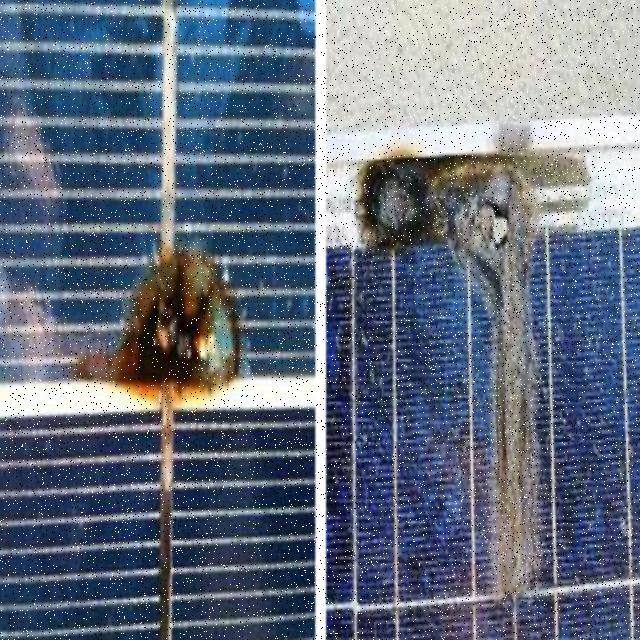electrical damage: (356, 148, 594, 621), (70, 209, 251, 453)
